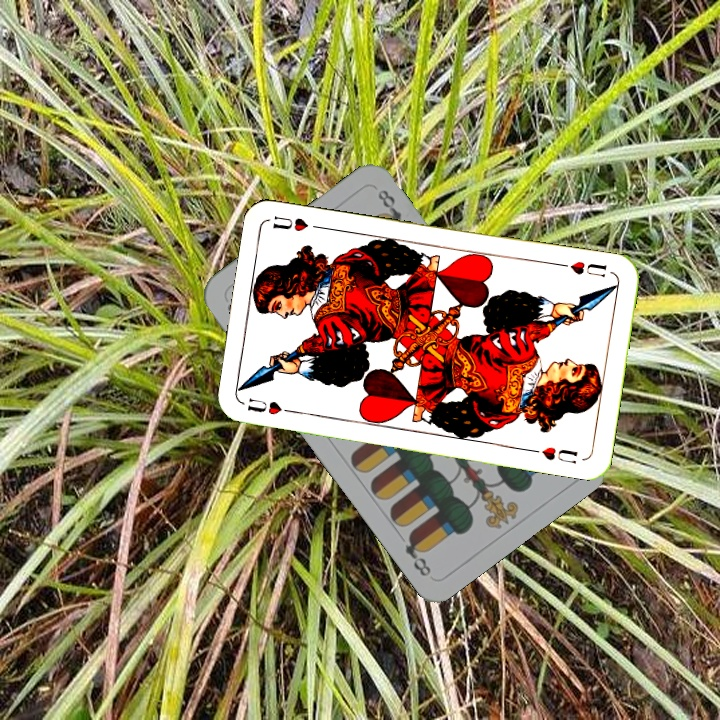HU: (244, 394, 299, 418), (555, 257, 609, 280)
